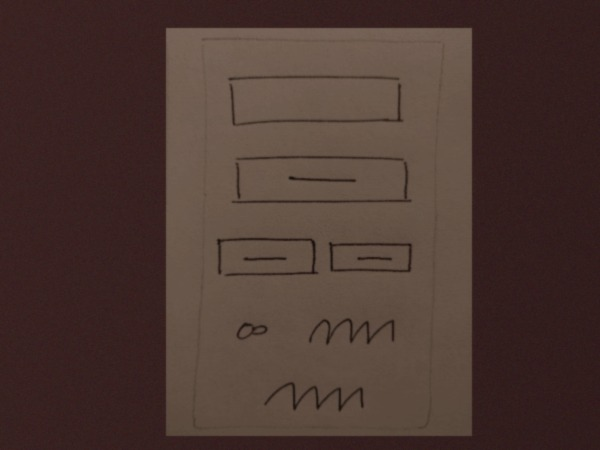button: (225, 152, 415, 209), (210, 230, 321, 282), (324, 234, 419, 279)
switch: (229, 313, 276, 345)
text: (257, 375, 371, 420), (299, 313, 402, 353)
text_input: (224, 70, 409, 134)
